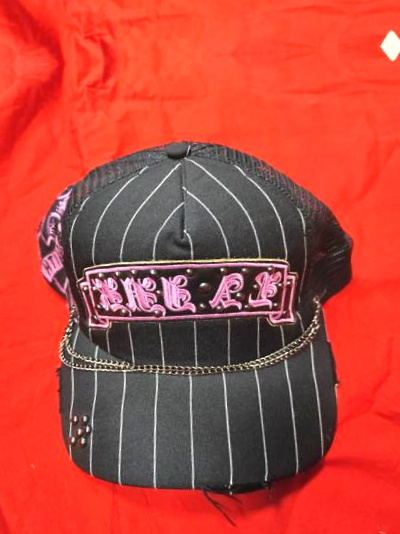Hat: (4, 136, 384, 497)
